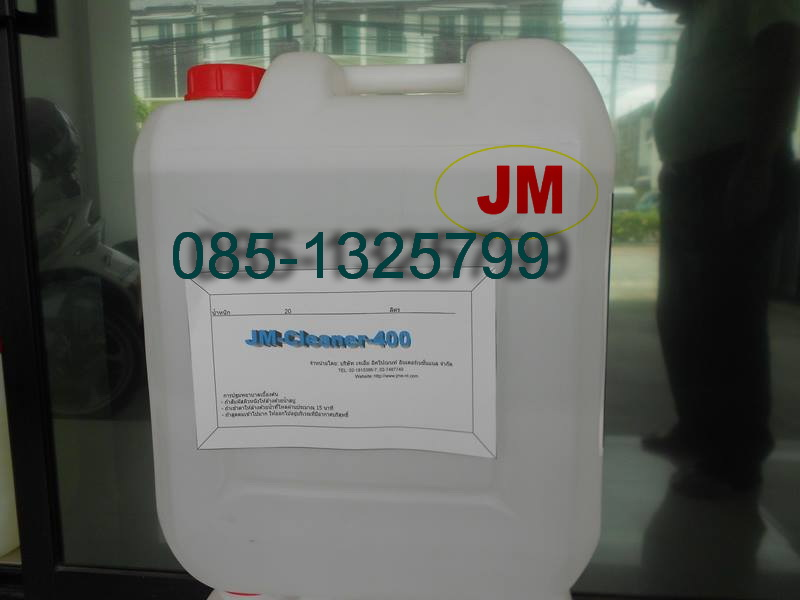Cleaning_solution: (127, 30, 615, 600)
